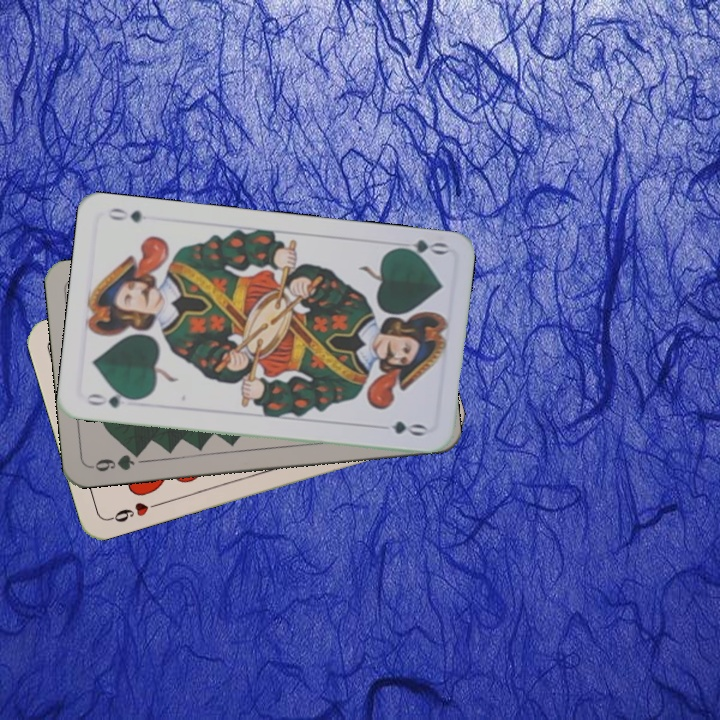G9: (87, 447, 145, 475)
GO: (390, 235, 450, 262), (83, 388, 141, 411)
H9: (104, 498, 162, 525)
